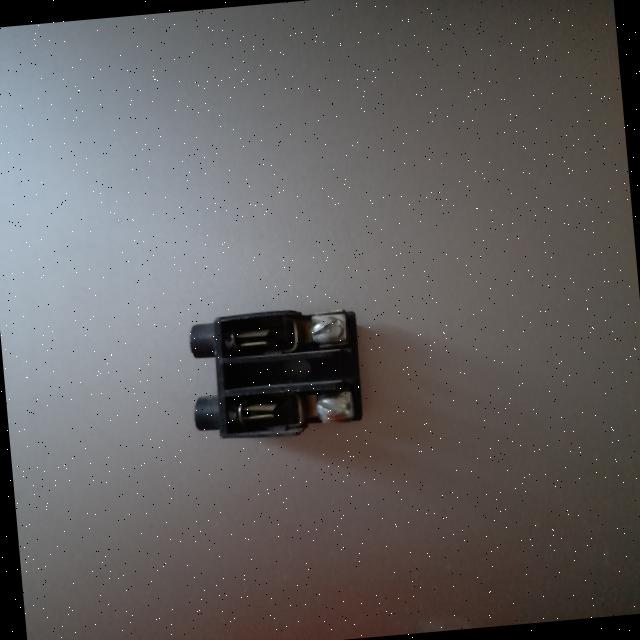Slotted: (307, 314, 345, 343), (314, 392, 350, 420)
